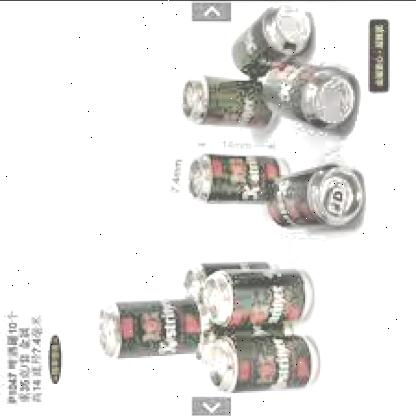Can: (199, 326, 327, 396), (200, 259, 320, 325), (258, 56, 362, 130), (263, 160, 372, 230), (226, 1, 318, 77), (96, 296, 202, 360), (187, 150, 291, 209), (175, 70, 277, 130), (178, 256, 278, 300)
